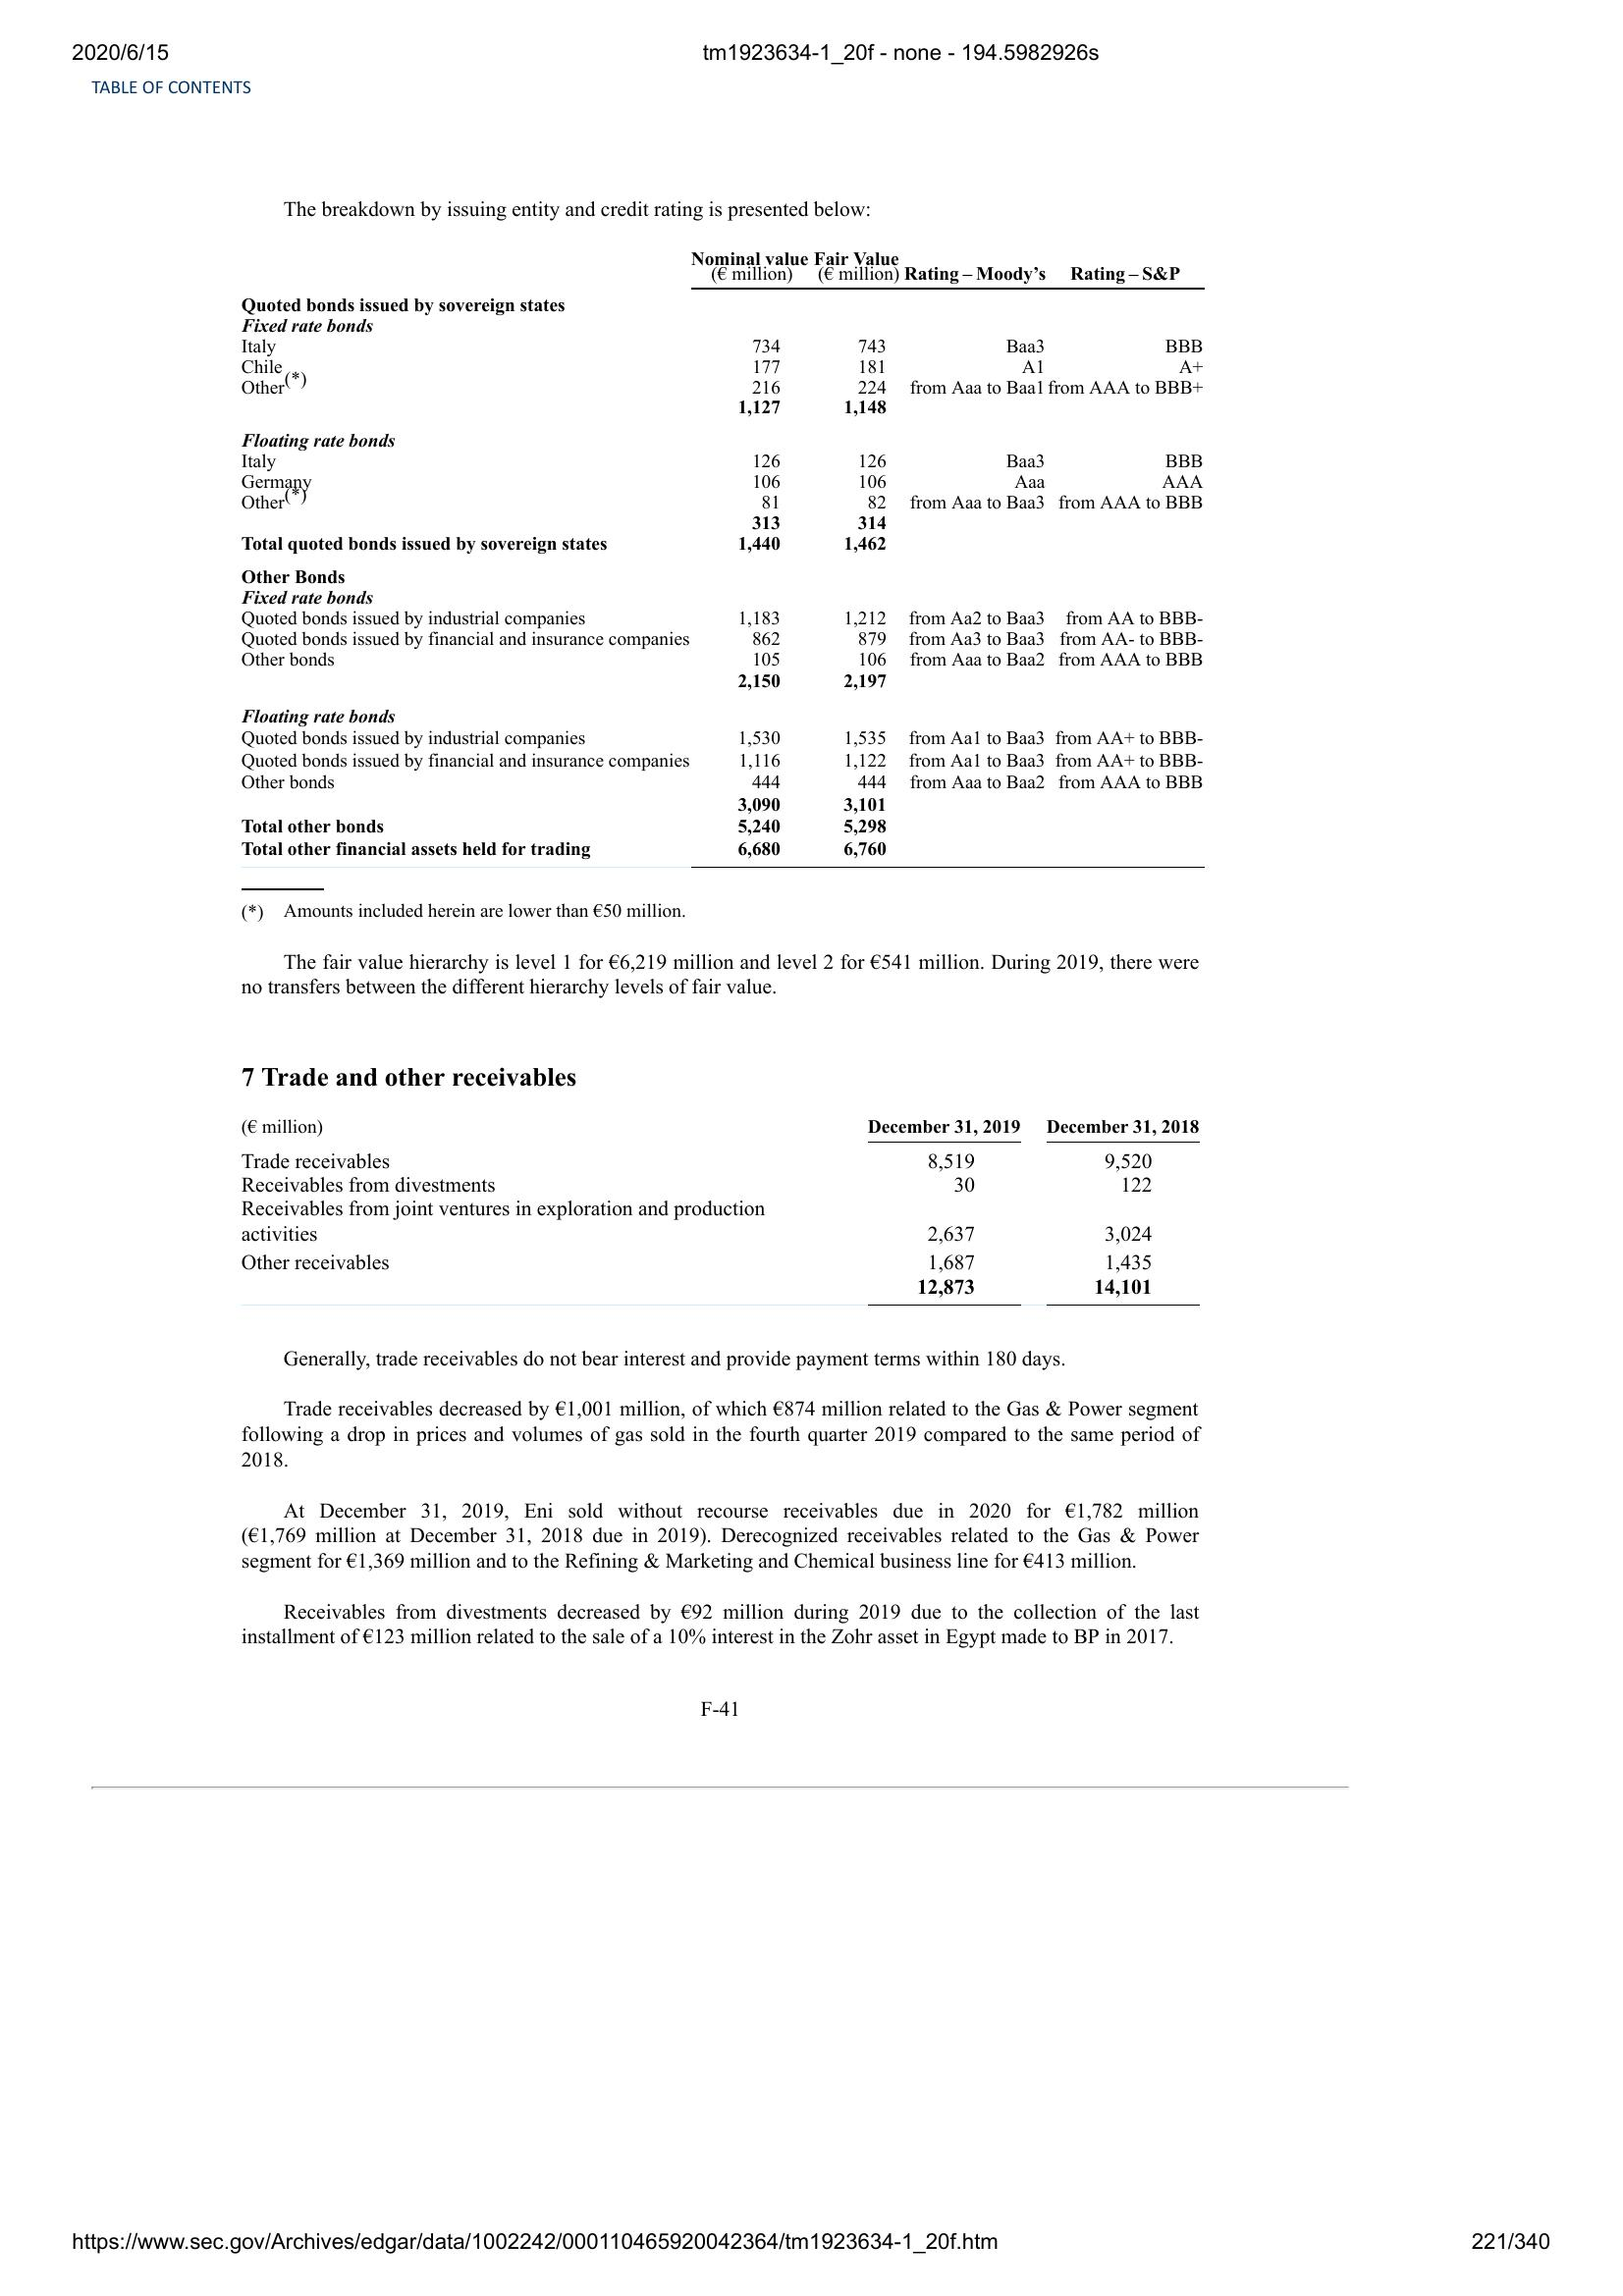table: (235, 246, 1212, 878), (232, 1095, 1205, 1311)
